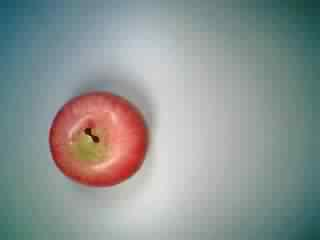apple: (48, 86, 152, 190)
